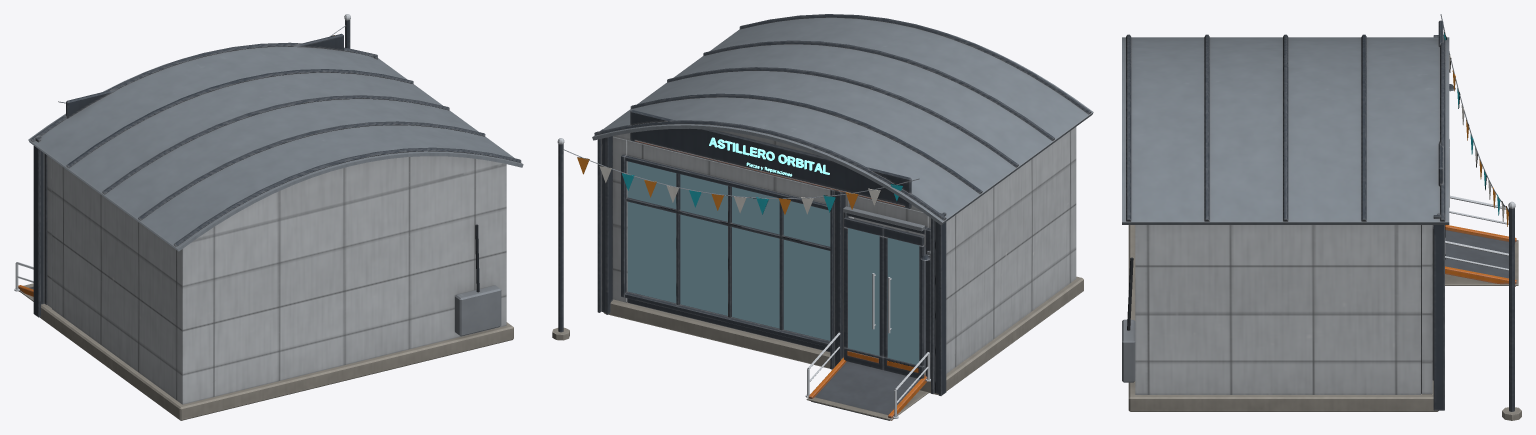
File: tienda_naves.fbx
3 views of the same model, side by side, from view 1: azimuth 30°, elevation 25°; view 2: azimuth 150°, elevation 25°; view 3: azimuth 270°, elevation 25° (orthographic). The views are drawn at different scales.
Visible parts, largest first — view 1: tienda_naves; view 2: tienda_naves, tienda_naves_cristal, tienda_naves_puerta_der_cristal, tienda_naves_puerta_izq_cristal, tienda_naves_puerta_der, tienda_naves_puerta_izq, tienda_naves_cartel_neon; view 3: tienda_naves.
Part boxes in pixels (<box>): tienda_naves: <box>14,14,523,420</box>; tienda_naves: <box>552,14,1093,420</box>; tienda_naves_cristal: <box>627,161,830,340</box>; tienda_naves_puerta_der_cristal: <box>887,238,919,364</box>; tienda_naves_puerta_izq_cristal: <box>848,228,879,355</box>; tienda_naves_puerta_der: <box>883,226,924,379</box>; tienda_naves_puerta_izq: <box>844,217,884,369</box>; tienda_naves_cartel_neon: <box>709,137,829,176</box>; tienda_naves: <box>1122,14,1521,420</box>.
Bounding box in the file's own units: 13.63 × 8.25 × 12.1.
Materials: 7 (1 with a texture image).
